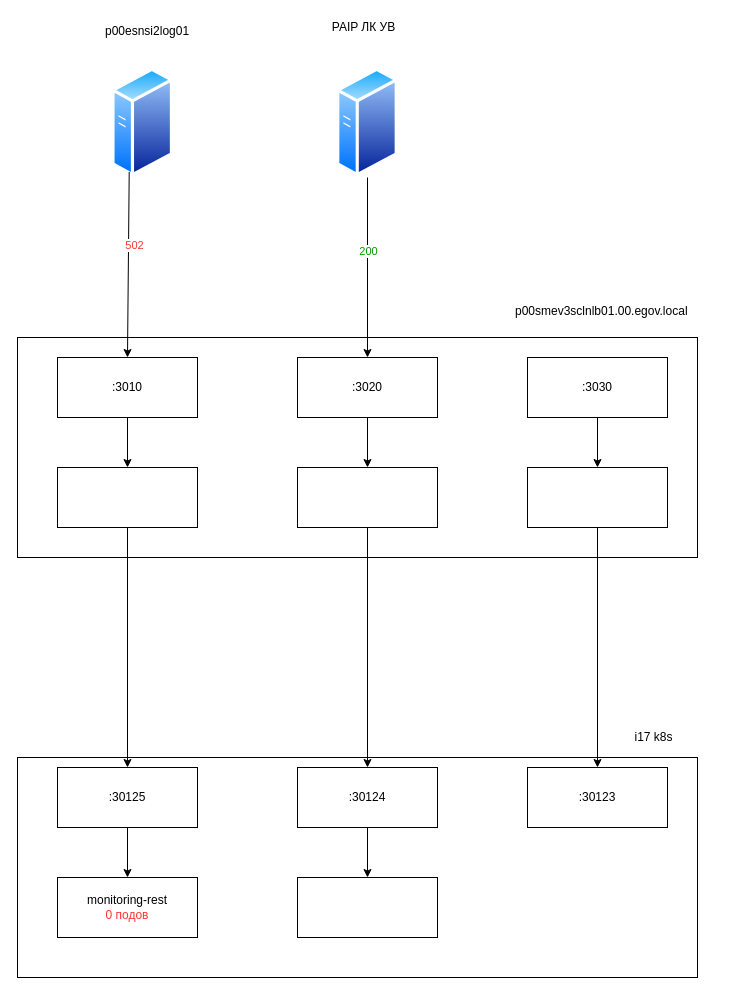
The diagram is 731 pixels wide and 995 high, and some of its shapes have lost their labels. The shapes that lost their labels are listed below. From the top down, each one's centre as x and y in pixels, then its label:
(127,497): monconsumer_upstream
(367,497): mondisp_upstream
(597,497): monetl_upstream
(367,907): monitoring-view
